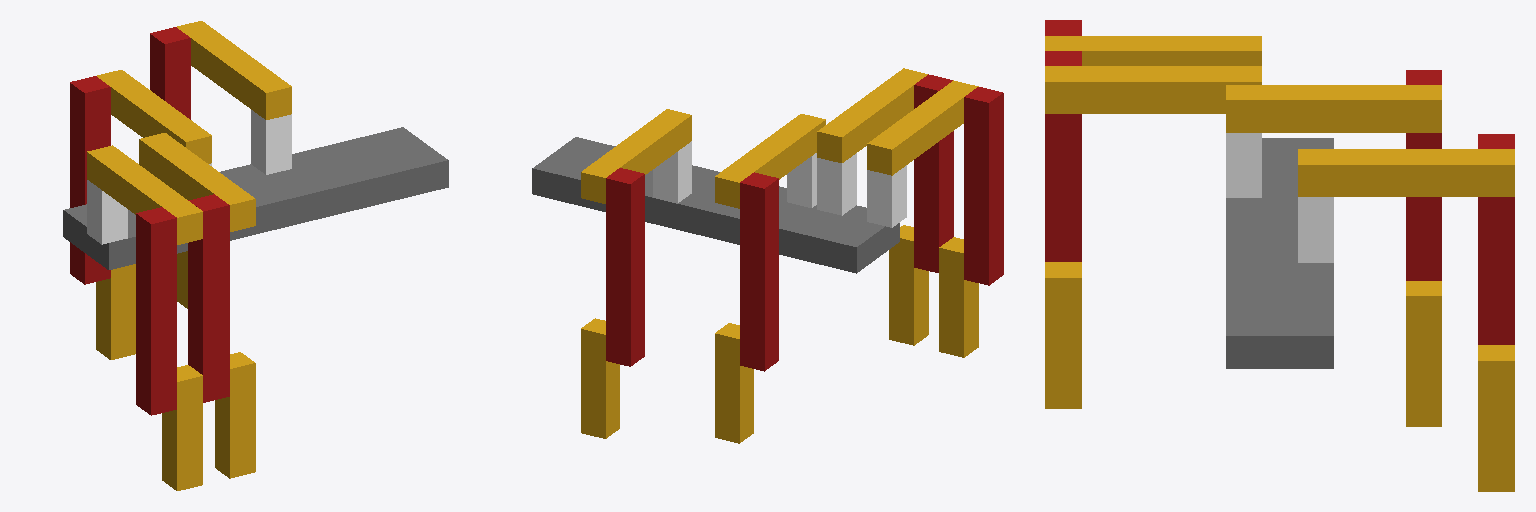
URDF robot description (v0):
<?xml version="1.0" encoding="utf-8"?>
<!-- =================================================================================== -->
<!-- |    This document was autogenerated by xacro from ../robots/v0variants/xacros/v0_4l_6.xacro | -->
<!-- |    EDITING THIS FILE BY HAND IS NOT RECOMMENDED                                 | -->
<!-- =================================================================================== -->
<robot name="v0">
  <material name="grey">
    <color rgba="0.5 0.5 0.5 1"/>
  </material>
  <material name="white">
    <color rgba="1 1 1 1"/>
  </material>
  <material name="yellow">
    <color rgba="0.91 0.7 0.14 1"/>
  </material>
  <material name="red">
    <color rgba="0.71 0.14 0.14 1"/>
  </material>
  <link name="body">
    <visual>
      <geometry>
        <box size="1.3 0.3 0.1"/>
      </geometry>
      <material name="grey"/>
      <origin rpy="0 0 0" xyz="0 0 0.7"/>
    </visual>
    <collision>
      <geometry>
        <box size="1.3 0.3 0.1"/>
      </geometry>
      <origin rpy="0 0 0" xyz="0 0 0.7"/>
    </collision>
    <inertial>
      <mass value="99.84"/>
      <inertia ixx="0.832" ixy="0.0" ixz="0.0" iyy="14.144" iyz="0.0" izz="14.8096"/>
    </inertial>
  </link>
  <link name="l1_segment_1">
    <visual>
      <geometry>
        <box size="0.1 0.1 0.2"/>
      </geometry>
      <material name="white"/>
      <origin rpy="0 0 0" xyz="0 0 0.1"/>
    </visual>
    <collision>
      <geometry>
        <box size="0.1 0.1 0.2"/>
      </geometry>
      <origin rpy="0 0 0" xyz="0 0 0.1"/>
    </collision>
    <inertial>
      <mass value="5.12"/>
      <inertia ixx="0.0213333333333" ixy="0.0" ixz="0.0" iyy="0.0213333333333" iyz="0.0" izz="0.00853333333333"/>
    </inertial>
  </link>
  <joint name="l1_base_to_joint_1" type="fixed">
    <parent link="body"/>
    <child link="l1_segment_1"/>
    <origin rpy="0 0 0" xyz="-0.30360212884475746 -0.1 0.75"/>
  </joint>
  <link name="l1_segment_2_HIP">
    <visual>
      <geometry>
        <box size="0.1 0.6 0.1"/>
      </geometry>
      <material name="yellow"/>
      <origin rpy="0 0 0" xyz="0 0.25 0"/>
    </visual>
    <collision>
      <geometry>
        <box size="0.1 0.6 0.1"/>
      </geometry>
      <origin rpy="0 0 0" xyz="0 0.25 0"/>
    </collision>
    <inertial>
      <mass value="15.36"/>
      <inertia ixx="0.4736" ixy="0.0" ixz="0.0" iyy="0.0256" iyz="0.0" izz="0.4736"/>
    </inertial>
  </link>
  <joint name="l1_joint_1_to_2" type="revolute">
    <parent link="l1_segment_1"/>
    <child link="l1_segment_2_HIP"/>
    <origin rpy="0 0 0" xyz="0 0 0.25"/>
    <axis xyz="0.0 0.0 1.0"/>
    <limit effort="2048" lower="-1.2" upper="1.2" velocity="20"/>
  </joint>
  <link name="l1_segment_3_THIGH">
    <visual>
      <geometry>
        <box size="0.1 0.1 0.7"/>
      </geometry>
      <material name="red"/>
      <origin rpy="0 0 0" xyz="0 0 -0.3"/>
    </visual>
    <collision>
      <geometry>
        <box size="0.1 0.1 0.7"/>
      </geometry>
      <origin rpy="0 0 0" xyz="0 0 -0.3"/>
    </collision>
    <inertial>
      <mass value="17.92"/>
      <inertia ixx="0.746666666667" ixy="0.0" ixz="0.0" iyy="0.746666666667" iyz="0.0" izz="0.0298666666667"/>
    </inertial>
  </link>
  <joint name="l1_joint_2_to_3" type="revolute">
    <parent link="l1_segment_2_HIP"/>
    <child link="l1_segment_3_THIGH"/>
    <origin rpy="0 0 0" xyz="-0.1 0.5 0"/>
    <axis xyz="1.0 0.0 0.0"/>
    <limit effort="2048" lower="-0.2" upper="0.75" velocity="20"/>
  </joint>
  <link name="l1_segment_4_FOOT">
    <visual>
      <geometry>
        <box size="0.1 0.1 0.4"/>
      </geometry>
      <material name="yellow"/>
      <origin rpy="0 0 0" xyz="0 0 -0.2"/>
    </visual>
    <collision>
      <geometry>
        <box size="0.1 0.1 0.4"/>
      </geometry>
      <origin rpy="0 0 0" xyz="0 0 -0.2"/>
    </collision>
    <inertial>
      <mass value="10.24"/>
      <inertia ixx="0.145066666667" ixy="0.0" ixz="0.0" iyy="0.145066666667" iyz="0.0" izz="0.0170666666667"/>
    </inertial>
  </link>
  <joint name="l1_joint_3_to_4_FOOT" type="revolute">
    <parent link="l1_segment_3_THIGH"/>
    <child link="l1_segment_4_FOOT"/>
    <origin rpy="0 0 0" xyz="0.1 0 -0.55"/>
    <axis xyz="1.0 0.0 0.0"/>
    <limit effort="2048" lower="-0.2" upper="0.5" velocity="20"/>
  </joint>
  <link name="r2_segment_1">
    <visual>
      <geometry>
        <box size="0.1 0.1 0.2"/>
      </geometry>
      <material name="white"/>
      <origin rpy="0 0 0" xyz="0 0 0.1"/>
    </visual>
    <collision>
      <geometry>
        <box size="0.1 0.1 0.2"/>
      </geometry>
      <origin rpy="0 0 0" xyz="0 0 0.1"/>
    </collision>
    <inertial>
      <mass value="5.12"/>
      <inertia ixx="0.0213333333333" ixy="0.0" ixz="0.0" iyy="0.0213333333333" iyz="0.0" izz="0.00853333333333"/>
    </inertial>
  </link>
  <joint name="r2_base_to_joint_1" type="fixed">
    <parent link="body"/>
    <child link="r2_segment_1"/>
    <origin rpy="0 0 0" xyz="-0.6266144821657069 -0.1 0.75"/>
  </joint>
  <link name="r2_segment_2_HIP">
    <visual>
      <geometry>
        <box size="0.1 0.6 0.1"/>
      </geometry>
      <material name="yellow"/>
      <origin rpy="0 0 0" xyz="0 -0.25 0"/>
    </visual>
    <collision>
      <geometry>
        <box size="0.1 0.6 0.1"/>
      </geometry>
      <origin rpy="0 0 0" xyz="0 -0.25 0"/>
    </collision>
    <inertial>
      <mass value="15.36"/>
      <inertia ixx="0.4736" ixy="0.0" ixz="0.0" iyy="0.0256" iyz="0.0" izz="0.4736"/>
    </inertial>
  </link>
  <joint name="r2_joint_1_to_2" type="revolute">
    <parent link="r2_segment_1"/>
    <child link="r2_segment_2_HIP"/>
    <origin rpy="0 0 0" xyz="0 0 0.25"/>
    <axis xyz="0.0 0.0 1.0"/>
    <limit effort="2048" lower="-1.2" upper="1.2" velocity="20"/>
  </joint>
  <link name="r2_segment_3_THIGH">
    <visual>
      <geometry>
        <box size="0.1 0.1 0.7"/>
      </geometry>
      <material name="red"/>
      <origin rpy="0 0 0" xyz="0 0 -0.3"/>
    </visual>
    <collision>
      <geometry>
        <box size="0.1 0.1 0.7"/>
      </geometry>
      <origin rpy="0 0 0" xyz="0 0 -0.3"/>
    </collision>
    <inertial>
      <mass value="17.92"/>
      <inertia ixx="0.746666666667" ixy="0.0" ixz="0.0" iyy="0.746666666667" iyz="0.0" izz="0.0298666666667"/>
    </inertial>
  </link>
  <joint name="r2_joint_2_to_3" type="revolute">
    <parent link="r2_segment_2_HIP"/>
    <child link="r2_segment_3_THIGH"/>
    <origin rpy="0 0 0" xyz="-0.1 -0.5 0"/>
    <axis xyz="1.0 0.0 0.0"/>
    <limit effort="2048" lower="-0.75" upper="0.2" velocity="20"/>
  </joint>
  <link name="r2_segment_4_FOOT">
    <visual>
      <geometry>
        <box size="0.1 0.1 0.4"/>
      </geometry>
      <material name="yellow"/>
      <origin rpy="0 0 0" xyz="0 0 -0.2"/>
    </visual>
    <collision>
      <geometry>
        <box size="0.1 0.1 0.4"/>
      </geometry>
      <origin rpy="0 0 0" xyz="0 0 -0.2"/>
    </collision>
    <inertial>
      <mass value="10.24"/>
      <inertia ixx="0.145066666667" ixy="0.0" ixz="0.0" iyy="0.145066666667" iyz="0.0" izz="0.0170666666667"/>
    </inertial>
  </link>
  <joint name="r2_joint_3_to_4_FOOT" type="revolute">
    <parent link="r2_segment_3_THIGH"/>
    <child link="r2_segment_4_FOOT"/>
    <origin rpy="0 0 0" xyz="0.1 0 -0.55"/>
    <axis xyz="1.0 0.0 0.0"/>
    <limit effort="2048" lower="-0.5" upper="0.2" velocity="20"/>
  </joint>
  <link name="l3_segment_1">
    <visual>
      <geometry>
        <box size="0.1 0.1 0.2"/>
      </geometry>
      <material name="white"/>
      <origin rpy="0 0 0" xyz="0 0 0.1"/>
    </visual>
    <collision>
      <geometry>
        <box size="0.1 0.1 0.2"/>
      </geometry>
      <origin rpy="0 0 0" xyz="0 0 0.1"/>
    </collision>
    <inertial>
      <mass value="5.12"/>
      <inertia ixx="0.0213333333333" ixy="0.0" ixz="0.0" iyy="0.0213333333333" iyz="0.0" izz="0.00853333333333"/>
    </inertial>
  </link>
  <joint name="l3_base_to_joint_1" type="fixed">
    <parent link="body"/>
    <child link="l3_segment_1"/>
    <origin rpy="0 0 0" xyz="0.1180999856490349 0.1 0.75"/>
  </joint>
  <link name="l3_segment_2_HIP">
    <visual>
      <geometry>
        <box size="0.1 0.6 0.1"/>
      </geometry>
      <material name="yellow"/>
      <origin rpy="0 0 0" xyz="0 0.25 0"/>
    </visual>
    <collision>
      <geometry>
        <box size="0.1 0.6 0.1"/>
      </geometry>
      <origin rpy="0 0 0" xyz="0 0.25 0"/>
    </collision>
    <inertial>
      <mass value="15.36"/>
      <inertia ixx="0.4736" ixy="0.0" ixz="0.0" iyy="0.0256" iyz="0.0" izz="0.4736"/>
    </inertial>
  </link>
  <joint name="l3_joint_1_to_2" type="revolute">
    <parent link="l3_segment_1"/>
    <child link="l3_segment_2_HIP"/>
    <origin rpy="0 0 0" xyz="0 0 0.25"/>
    <axis xyz="0.0 0.0 1.0"/>
    <limit effort="2048" lower="-1.2" upper="1.2" velocity="20"/>
  </joint>
  <link name="l3_segment_3_THIGH">
    <visual>
      <geometry>
        <box size="0.1 0.1 0.7"/>
      </geometry>
      <material name="red"/>
      <origin rpy="0 0 0" xyz="0 0 -0.3"/>
    </visual>
    <collision>
      <geometry>
        <box size="0.1 0.1 0.7"/>
      </geometry>
      <origin rpy="0 0 0" xyz="0 0 -0.3"/>
    </collision>
    <inertial>
      <mass value="17.92"/>
      <inertia ixx="0.746666666667" ixy="0.0" ixz="0.0" iyy="0.746666666667" iyz="0.0" izz="0.0298666666667"/>
    </inertial>
  </link>
  <joint name="l3_joint_2_to_3" type="revolute">
    <parent link="l3_segment_2_HIP"/>
    <child link="l3_segment_3_THIGH"/>
    <origin rpy="0 0 0" xyz="-0.1 0.5 0"/>
    <axis xyz="1.0 0.0 0.0"/>
    <limit effort="2048" lower="-0.2" upper="0.75" velocity="20"/>
  </joint>
  <link name="l3_segment_4_FOOT">
    <visual>
      <geometry>
        <box size="0.1 0.1 0.4"/>
      </geometry>
      <material name="yellow"/>
      <origin rpy="0 0 0" xyz="0 0 -0.2"/>
    </visual>
    <collision>
      <geometry>
        <box size="0.1 0.1 0.4"/>
      </geometry>
      <origin rpy="0 0 0" xyz="0 0 -0.2"/>
    </collision>
    <inertial>
      <mass value="10.24"/>
      <inertia ixx="0.145066666667" ixy="0.0" ixz="0.0" iyy="0.145066666667" iyz="0.0" izz="0.0170666666667"/>
    </inertial>
  </link>
  <joint name="l3_joint_3_to_4_FOOT" type="revolute">
    <parent link="l3_segment_3_THIGH"/>
    <child link="l3_segment_4_FOOT"/>
    <origin rpy="0 0 0" xyz="0.1 0 -0.55"/>
    <axis xyz="1.0 0.0 0.0"/>
    <limit effort="2048" lower="-0.2" upper="0.5" velocity="20"/>
  </joint>
  <link name="r4_segment_1">
    <visual>
      <geometry>
        <box size="0.1 0.1 0.2"/>
      </geometry>
      <material name="white"/>
      <origin rpy="0 0 0" xyz="0 0 0.1"/>
    </visual>
    <collision>
      <geometry>
        <box size="0.1 0.1 0.2"/>
      </geometry>
      <origin rpy="0 0 0" xyz="0 0 0.1"/>
    </collision>
    <inertial>
      <mass value="5.12"/>
      <inertia ixx="0.0213333333333" ixy="0.0" ixz="0.0" iyy="0.0213333333333" iyz="0.0" izz="0.00853333333333"/>
    </inertial>
  </link>
  <joint name="r4_base_to_joint_1" type="fixed">
    <parent link="body"/>
    <child link="r4_segment_1"/>
    <origin rpy="0 0 0" xyz="-0.4262262160546726 -0.1 0.75"/>
  </joint>
  <link name="r4_segment_2_HIP">
    <visual>
      <geometry>
        <box size="0.1 0.6 0.1"/>
      </geometry>
      <material name="yellow"/>
      <origin rpy="0 0 0" xyz="0 -0.25 0"/>
    </visual>
    <collision>
      <geometry>
        <box size="0.1 0.6 0.1"/>
      </geometry>
      <origin rpy="0 0 0" xyz="0 -0.25 0"/>
    </collision>
    <inertial>
      <mass value="15.36"/>
      <inertia ixx="0.4736" ixy="0.0" ixz="0.0" iyy="0.0256" iyz="0.0" izz="0.4736"/>
    </inertial>
  </link>
  <joint name="r4_joint_1_to_2" type="revolute">
    <parent link="r4_segment_1"/>
    <child link="r4_segment_2_HIP"/>
    <origin rpy="0 0 0" xyz="0 0 0.25"/>
    <axis xyz="0.0 0.0 1.0"/>
    <limit effort="2048" lower="-1.2" upper="1.2" velocity="20"/>
  </joint>
  <link name="r4_segment_3_THIGH">
    <visual>
      <geometry>
        <box size="0.1 0.1 0.7"/>
      </geometry>
      <material name="red"/>
      <origin rpy="0 0 0" xyz="0 0 -0.3"/>
    </visual>
    <collision>
      <geometry>
        <box size="0.1 0.1 0.7"/>
      </geometry>
      <origin rpy="0 0 0" xyz="0 0 -0.3"/>
    </collision>
    <inertial>
      <mass value="17.92"/>
      <inertia ixx="0.746666666667" ixy="0.0" ixz="0.0" iyy="0.746666666667" iyz="0.0" izz="0.0298666666667"/>
    </inertial>
  </link>
  <joint name="r4_joint_2_to_3" type="revolute">
    <parent link="r4_segment_2_HIP"/>
    <child link="r4_segment_3_THIGH"/>
    <origin rpy="0 0 0" xyz="-0.1 -0.5 0"/>
    <axis xyz="1.0 0.0 0.0"/>
    <limit effort="2048" lower="-0.75" upper="0.2" velocity="20"/>
  </joint>
  <link name="r4_segment_4_FOOT">
    <visual>
      <geometry>
        <box size="0.1 0.1 0.4"/>
      </geometry>
      <material name="yellow"/>
      <origin rpy="0 0 0" xyz="0 0 -0.2"/>
    </visual>
    <collision>
      <geometry>
        <box size="0.1 0.1 0.4"/>
      </geometry>
      <origin rpy="0 0 0" xyz="0 0 -0.2"/>
    </collision>
    <inertial>
      <mass value="10.24"/>
      <inertia ixx="0.145066666667" ixy="0.0" ixz="0.0" iyy="0.145066666667" iyz="0.0" izz="0.0170666666667"/>
    </inertial>
  </link>
  <joint name="r4_joint_3_to_4_FOOT" type="revolute">
    <parent link="r4_segment_3_THIGH"/>
    <child link="r4_segment_4_FOOT"/>
    <origin rpy="0 0 0" xyz="0.1 0 -0.55"/>
    <axis xyz="1.0 0.0 0.0"/>
    <limit effort="2048" lower="-0.5" upper="0.2" velocity="20"/>
  </joint>
</robot>

--- Render facts (derived) ---
3 views of the same robot in one strip: view 1: azimuth 30°, elevation 25°; view 2: azimuth 150°, elevation 25°; view 3: azimuth 270°, elevation 25° (orthographic).
Robot: v0 — 17 links, 16 joints (12 revolute, 4 fixed); root link body; default pose: every joint at zero.
Visible links, largest first — view 1: body, r2_segment_3_THIGH, r4_segment_3_THIGH, l3_segment_2_HIP, l1_segment_3_THIGH, r2_segment_2_HIP, r4_segment_2_HIP, r4_segment_4_FOOT, r2_segment_4_FOOT, l1_segment_2_HIP, l1_segment_4_FOOT, l3_segment_3_THIGH (+3 smaller); view 2: body, r2_segment_3_THIGH, l3_segment_3_THIGH, l1_segment_3_THIGH, r4_segment_3_THIGH, r2_segment_2_HIP, r4_segment_2_HIP, l3_segment_2_HIP, l1_segment_2_HIP, r2_segment_4_FOOT, l1_segment_4_FOOT, l3_segment_4_FOOT (+5 smaller); view 3: body, l3_segment_2_HIP, l1_segment_2_HIP, r4_segment_2_HIP, l3_segment_3_THIGH, r4_segment_3_THIGH, r2_segment_2_HIP, l3_segment_4_FOOT, r4_segment_4_FOOT, l1_segment_4_FOOT, l1_segment_3_THIGH, l3_segment_1 (+2 smaller).
Boxes of the visible links, left/top/right/bottom form: body: left=63, top=127, right=448, bottom=269; r2_segment_3_THIGH: left=136, top=207, right=176, bottom=415; r4_segment_3_THIGH: left=188, top=194, right=229, bottom=402; l3_segment_2_HIP: left=177, top=21, right=291, bottom=119; l1_segment_3_THIGH: left=70, top=76, right=110, bottom=284; r2_segment_2_HIP: left=87, top=145, right=202, bottom=244; r4_segment_2_HIP: left=139, top=133, right=255, bottom=231; r4_segment_4_FOOT: left=215, top=352, right=255, bottom=478; r2_segment_4_FOOT: left=162, top=365, right=202, bottom=490; l1_segment_2_HIP: left=97, top=70, right=211, bottom=163; l1_segment_4_FOOT: left=96, top=264, right=135, bottom=359; l3_segment_3_THIGH: left=150, top=27, right=190, bottom=119; body: left=532, top=137, right=899, bottom=273; r2_segment_3_THIGH: left=964, top=87, right=1003, bottom=285; l3_segment_3_THIGH: left=606, top=168, right=644, bottom=366; l1_segment_3_THIGH: left=740, top=172, right=778, bottom=371; r4_segment_3_THIGH: left=914, top=74, right=953, bottom=272; r2_segment_2_HIP: left=867, top=80, right=978, bottom=175; r4_segment_2_HIP: left=817, top=68, right=927, bottom=162; l3_segment_2_HIP: left=581, top=109, right=691, bottom=203; l1_segment_2_HIP: left=715, top=114, right=825, bottom=208; r2_segment_4_FOOT: left=939, top=237, right=978, bottom=357; l1_segment_4_FOOT: left=715, top=323, right=753, bottom=443; l3_segment_4_FOOT: left=581, top=318, right=619, bottom=438; body: left=1226, top=138, right=1333, bottom=368; l3_segment_2_HIP: left=1298, top=149, right=1514, bottom=196; l1_segment_2_HIP: left=1226, top=85, right=1441, bottom=132; r4_segment_2_HIP: left=1045, top=66, right=1261, bottom=113; l3_segment_3_THIGH: left=1478, top=134, right=1514, bottom=344; r4_segment_3_THIGH: left=1045, top=51, right=1081, bottom=261; r2_segment_2_HIP: left=1045, top=36, right=1261, bottom=65; l3_segment_4_FOOT: left=1478, top=345, right=1514, bottom=491; r4_segment_4_FOOT: left=1045, top=262, right=1081, bottom=408; l1_segment_4_FOOT: left=1406, top=281, right=1441, bottom=426; l1_segment_3_THIGH: left=1406, top=70, right=1441, bottom=280; l3_segment_1: left=1298, top=197, right=1333, bottom=262.
Size in the robot's own frame: 1.43 by 1.3 by 1 metres.
Geometry: primitives only (box / cylinder / sphere), no mesh files.